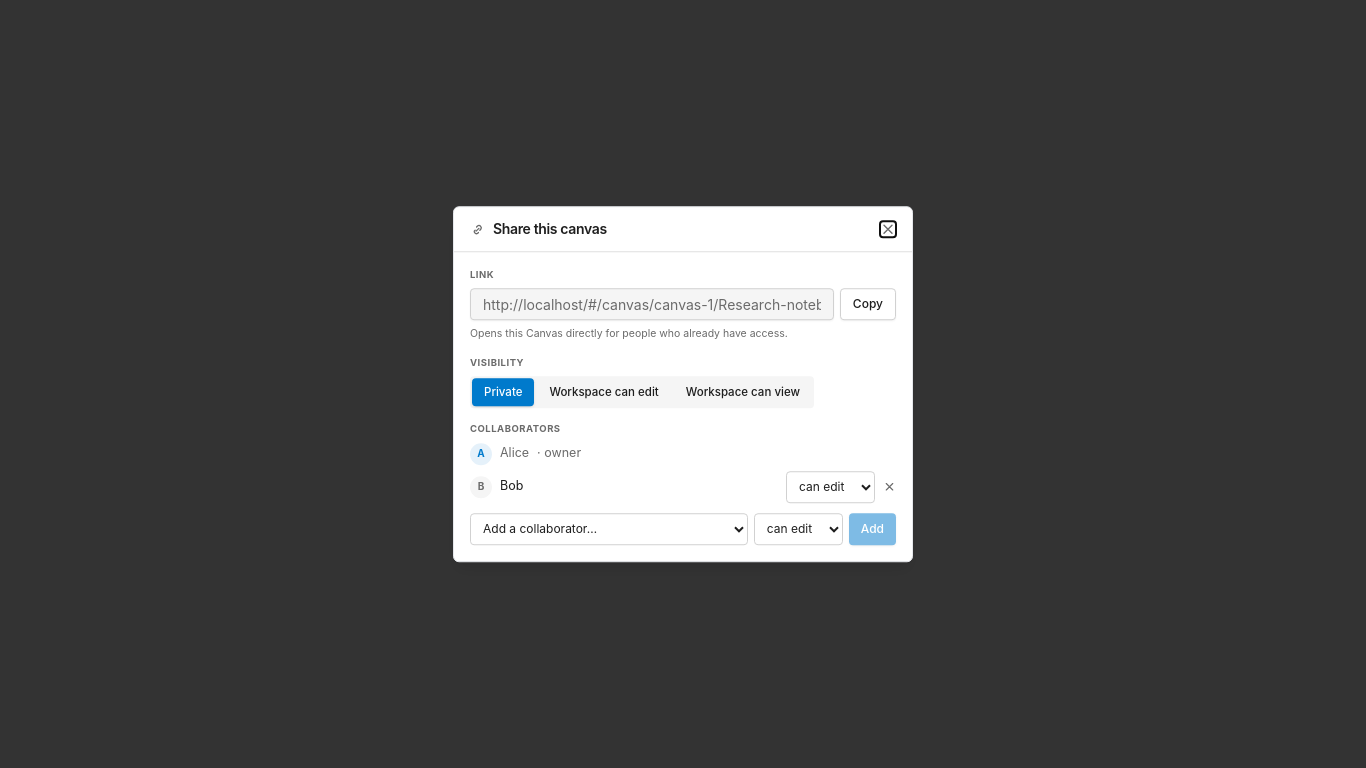
Test case: ShareModal — server-authoritative sharing truth › preserves the collaborator and role inputs after a 500
The image size is (1366, 768).
Select "Casey" in the dropdown showing "Add a collaborator…" at [609, 529], box left=470, top=513, right=748, bottom=545
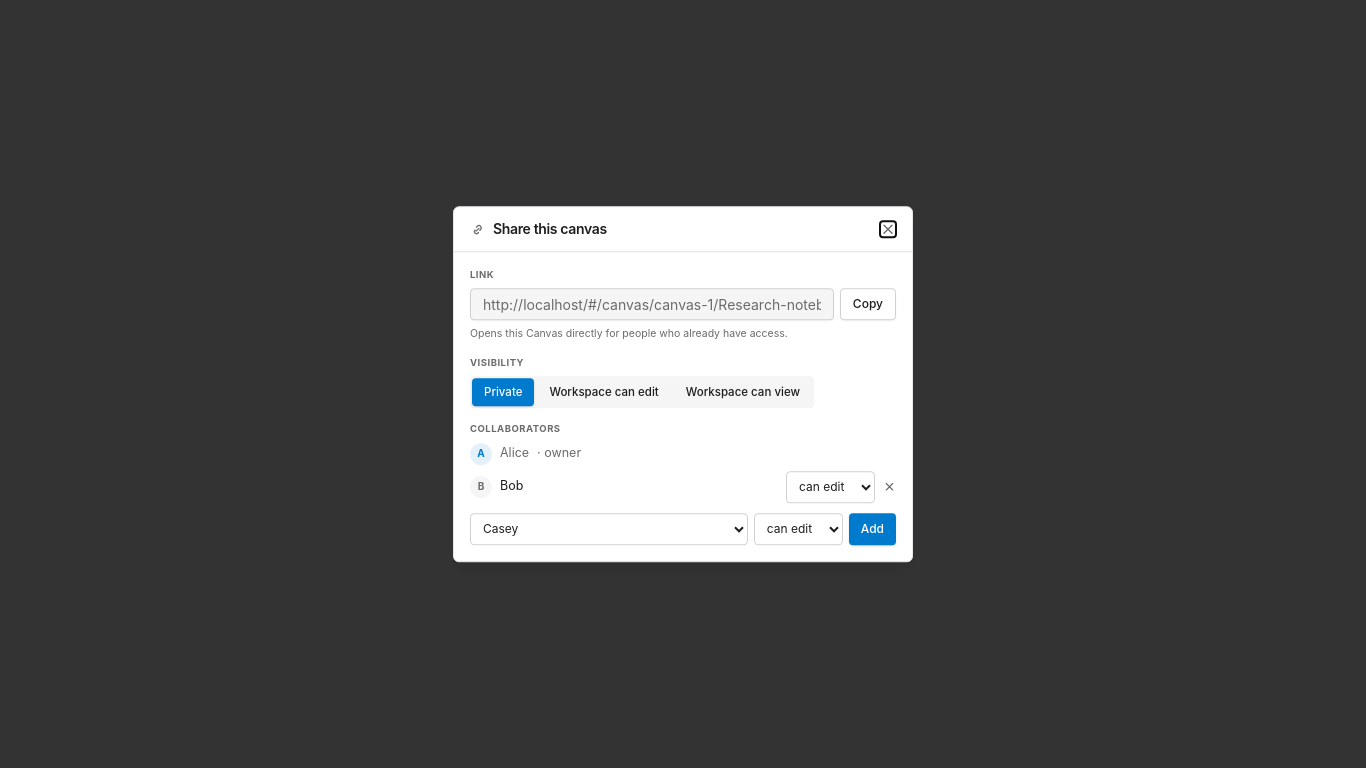
Select "can view" in the dropdown named "New collaborator access" at [798, 529], box left=754, top=513, right=843, bottom=545
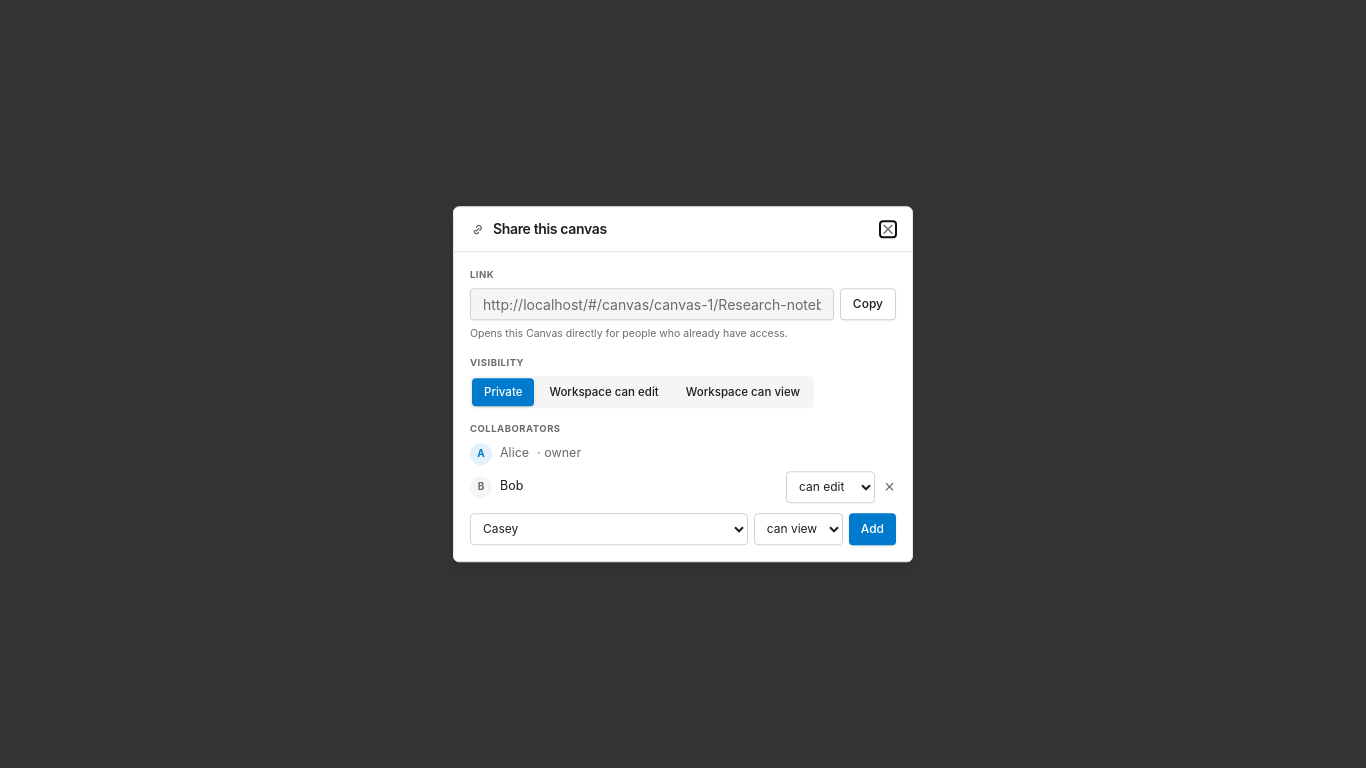
Click the button "Add" at [872, 529], box left=849, top=513, right=896, bottom=545
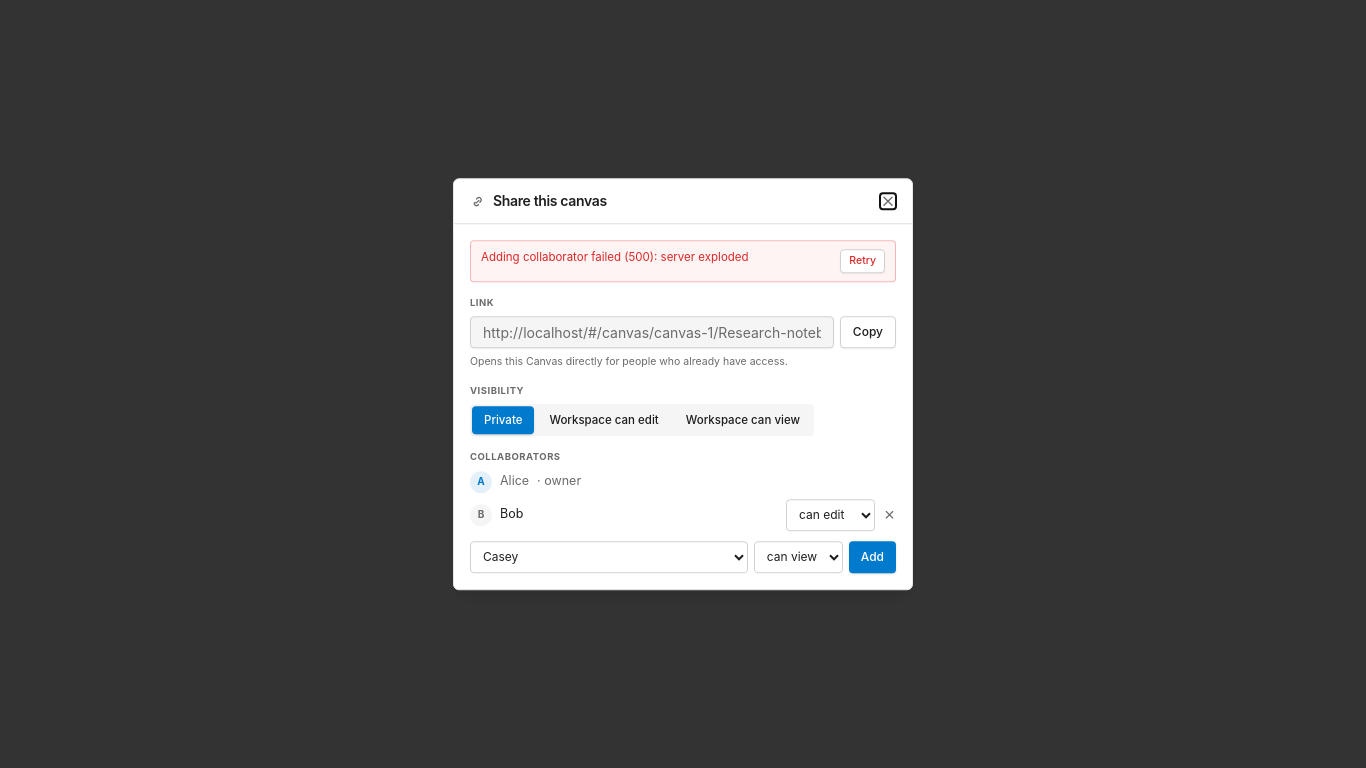
Expected: the button "Add" is enabled, left=849, top=541, right=896, bottom=573
Expected: the message shows "500", left=481, top=250, right=749, bottom=264
